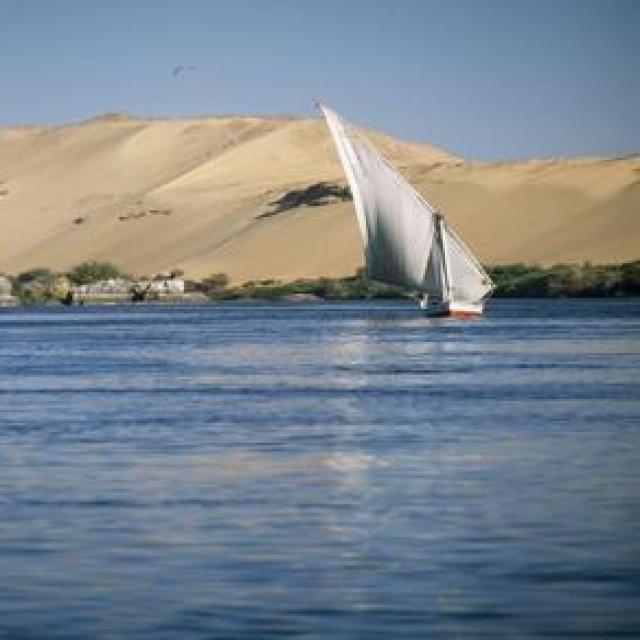sailboat: (310, 94, 503, 320)
